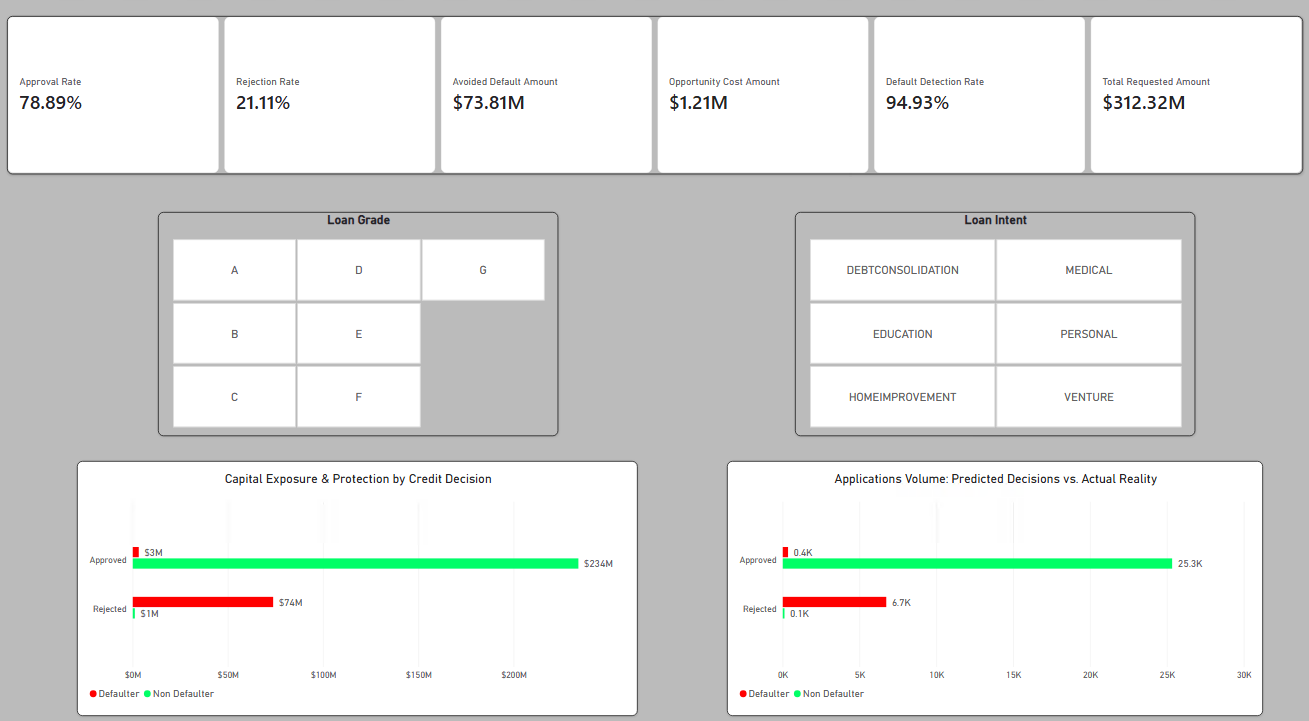

Layout of this report page (visuals, bound fields, positions):
{"tool":"powerbi","page":{"name":"Page 2","canvas":[1920,1080],"ordinal":1},"visuals":[{"type":"cardVisual","fields":{"Data":["_Measures.Approval Rate","_Measures.Rejection Rate","_Measures.Avoided Default Amount","_Measures.Opportunity Cost Amount","_Measures.Default Detection Rate","_Measures.Total Requested Amount"]},"box":[14.6,49.6,1890.8,230.5],"z":0},{"type":"slicer","title":"Loan Grade","fields":{"Values":["Dim_Product.loan_grade"]},"box":[234.9,335.6,583.9,327.2],"z":1000},{"type":"slicer","title":"Loan Intent","fields":{"Values":["Dim_Product.loan_intent"]},"box":[1164.3,335.6,583.9,327.2],"z":2000},{"type":"clusteredBarChart","title":"Applications Volume: Predicted Decisions vs. Actual Reality","fields":{"Y":["_Measures.Total Applications"],"Category":["Fact_Loan_Applications.credit_decision"],"Series":["Fact_Loan_Applications.Client Status"]},"box":[1065,698.8,782,372],"z":3000},{"type":"clusteredBarChart","title":"Capital Exposure & Protection by Credit Decision","fields":{"Category":["Fact_Loan_Applications.credit_decision"],"Series":["Fact_Loan_Applications.Client Status"],"Y":["Sum(Fact_Loan_Applications.loan_amnt)"]},"box":[116.7,698.8,818.5,372],"z":4000}]}

Visuals, with their boxes in screenshot pixels (x1, y1, x2, y2), scaled from the page's 1920x1080 canvas onto the 1309x721 screenshot:
cardVisual - _Measures.Approval Rate x _Measures.Rejection Rate: locate(10, 33, 1299, 187)
"Loan Grade" slicer: locate(160, 224, 558, 442)
"Loan Intent" slicer: locate(794, 224, 1192, 442)
"Applications Volume: Predicted Decisions vs. Actual Reality" clusteredBarChart: locate(726, 467, 1259, 715)
"Capital Exposure & Protection by Credit Decision" clusteredBarChart: locate(80, 467, 638, 715)
